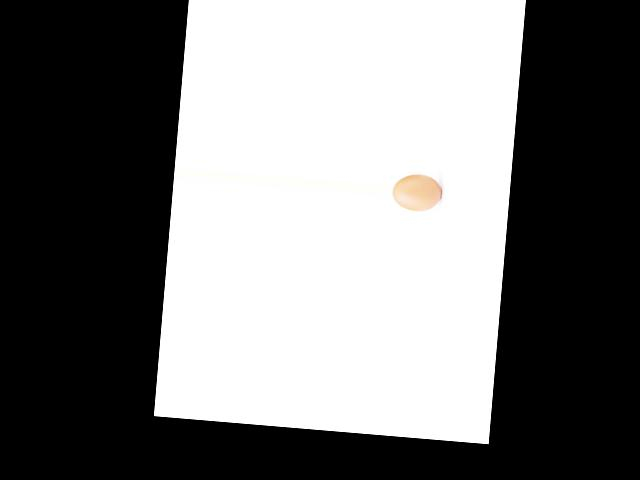egg: (391, 172, 443, 212)
